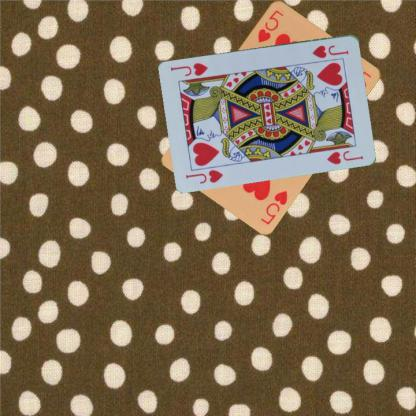5h: (258, 187, 289, 226), (255, 7, 285, 44)
Jh: (183, 166, 225, 184), (310, 42, 350, 59)
